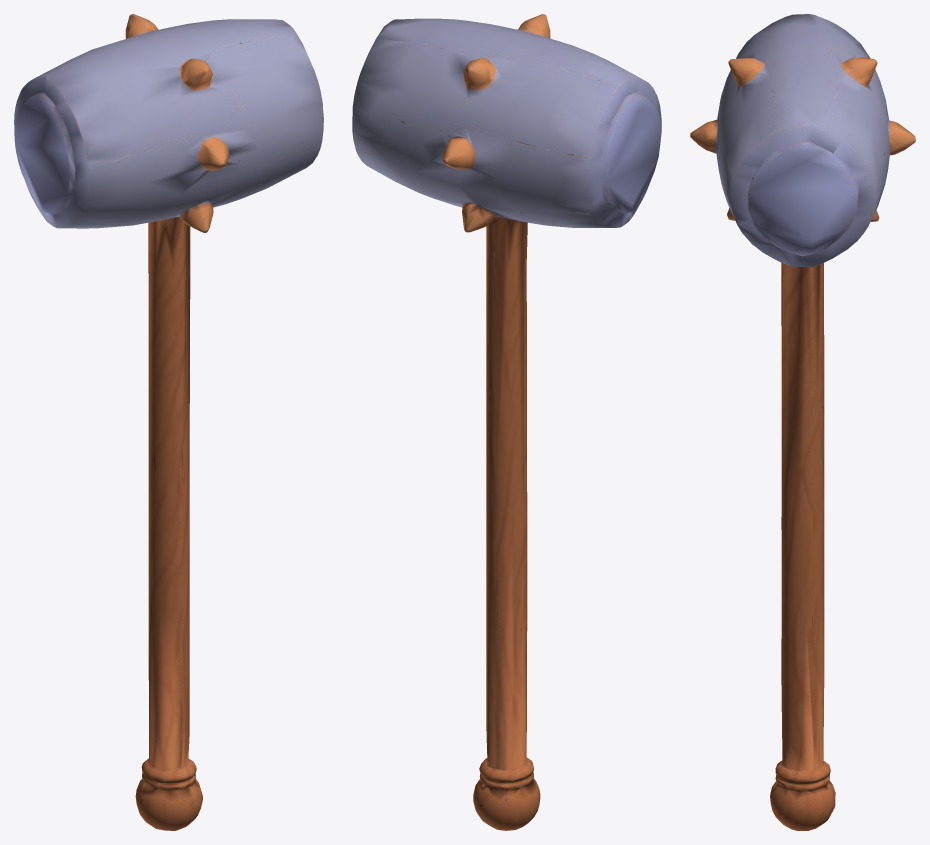
The model's file is Mallet_Meshy_low.glb.
3 renders of one model, left to right at view 1: azimuth 30°, elevation 25°; view 2: azimuth 150°, elevation 25°; view 3: azimuth 270°, elevation 25°, orthographic. The views are drawn at different scales.
Parts seen in each view (by area): view 1: geometry_0; view 2: geometry_0; view 3: geometry_0.
Boxes of the visible parts, x1,y1,x2,y2 form: geometry_0: (14, 14, 323, 830); geometry_0: (352, 14, 661, 830); geometry_0: (690, 14, 915, 830).
Size of the model in its own units: 0.6355 by 1.89 by 0.5003.
Materials: 1 (1 with a texture image).
